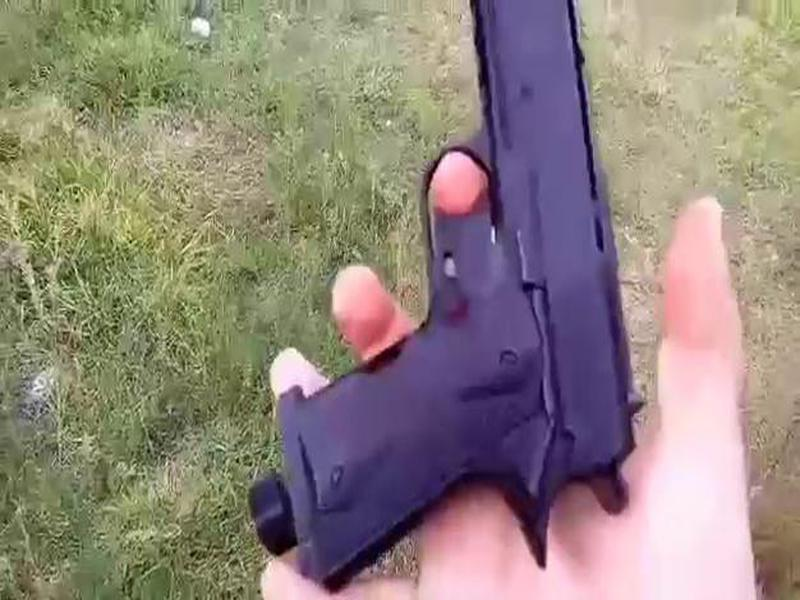Pistola: (248, 3, 672, 587)
